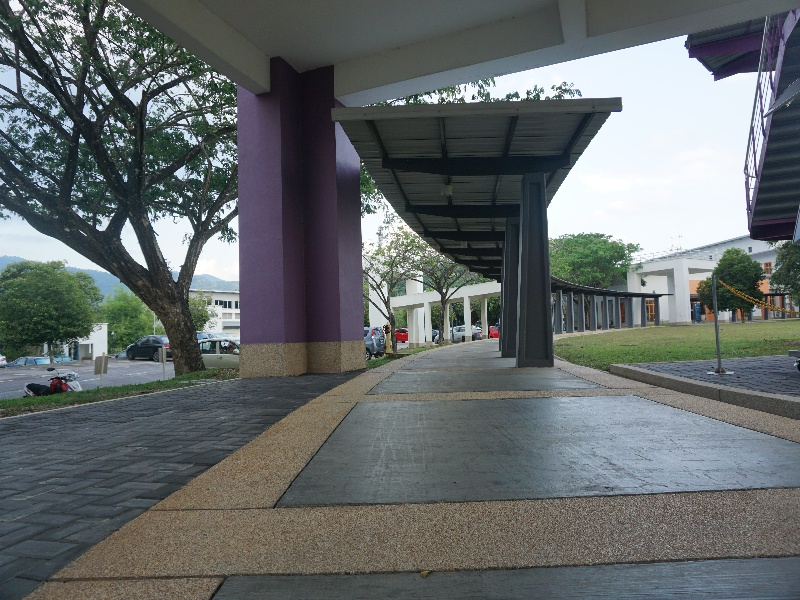Block D Pillar 6: (3, 8, 800, 495)
pillar: (227, 47, 373, 383), (514, 164, 563, 374)
